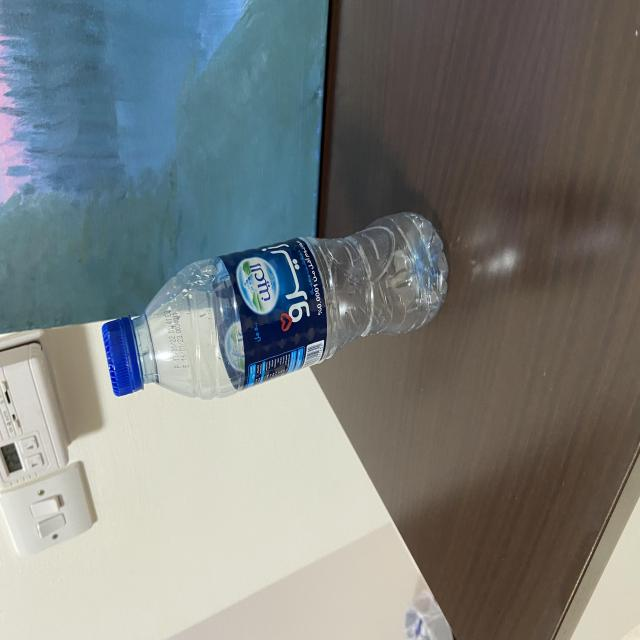bottle: (81, 223, 462, 402)
